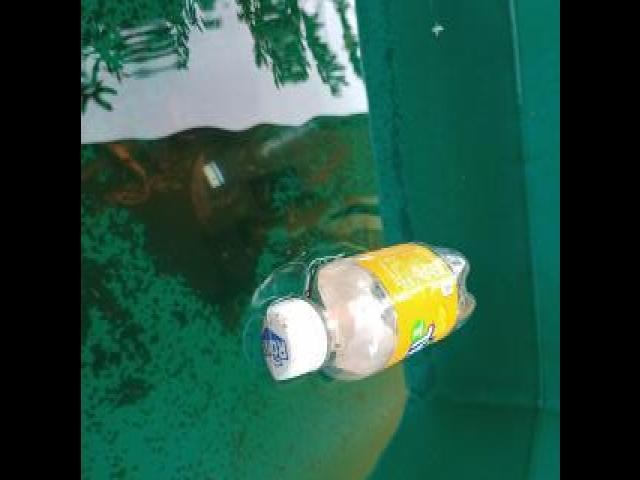Bottle: (252, 238, 472, 384)
